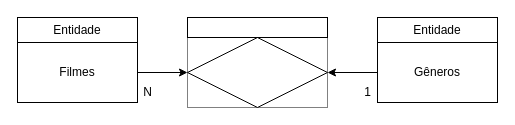
Some shapes in this 515 by 125 pixel diagram are drawn without their labels. The shapes that lost their labels are listed below. From the top down, each one's centre as x and y in pixels, then its label:
At point 257,27: "Relacionamento".
At point 257,72: "Possui".
